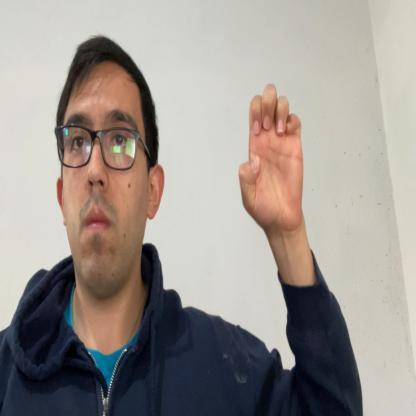E: (238, 81, 304, 230)
